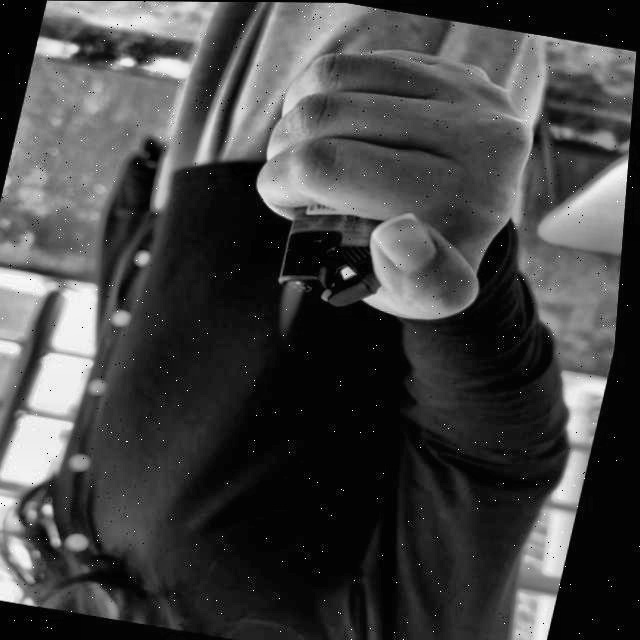Fire: (275, 276, 314, 343)
